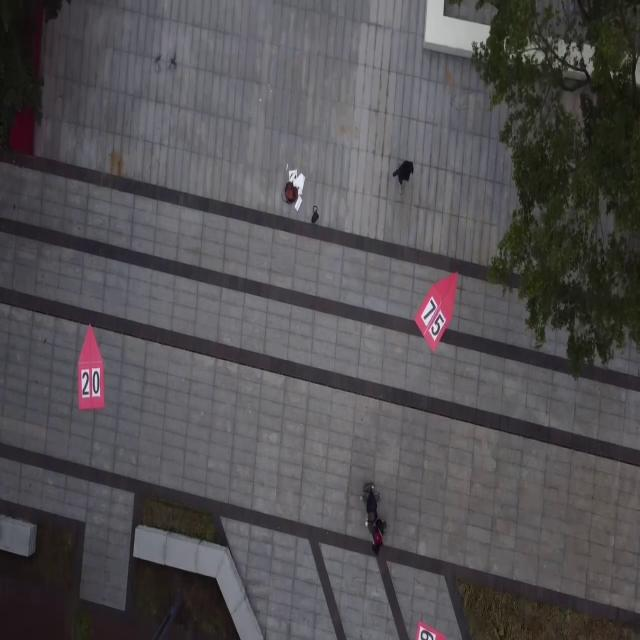-sign-: (414, 270, 458, 353), (77, 322, 105, 411), (416, 621, 448, 639)
